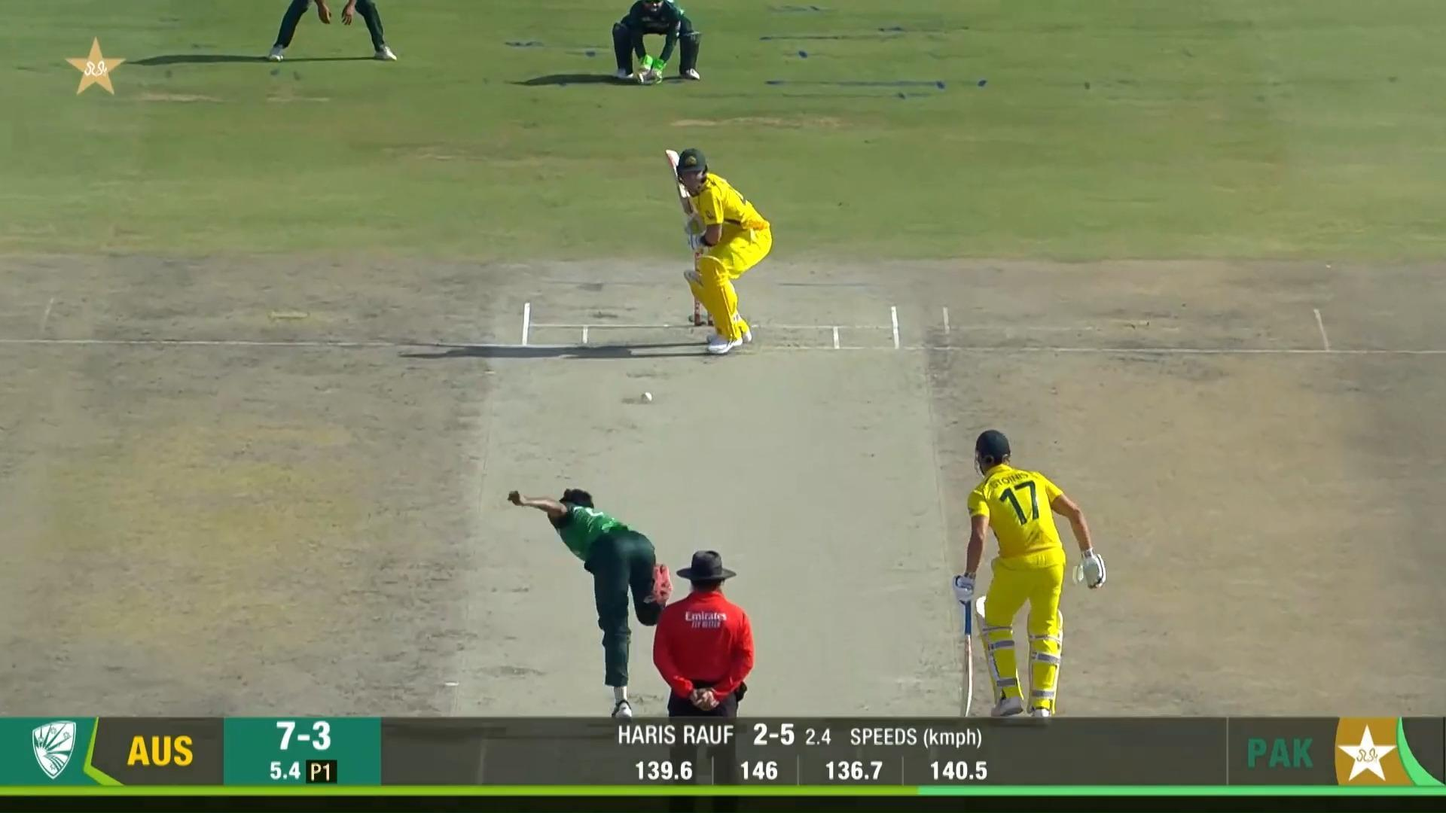BM 1: (665, 148, 773, 356)
BO: (505, 486, 675, 725)
